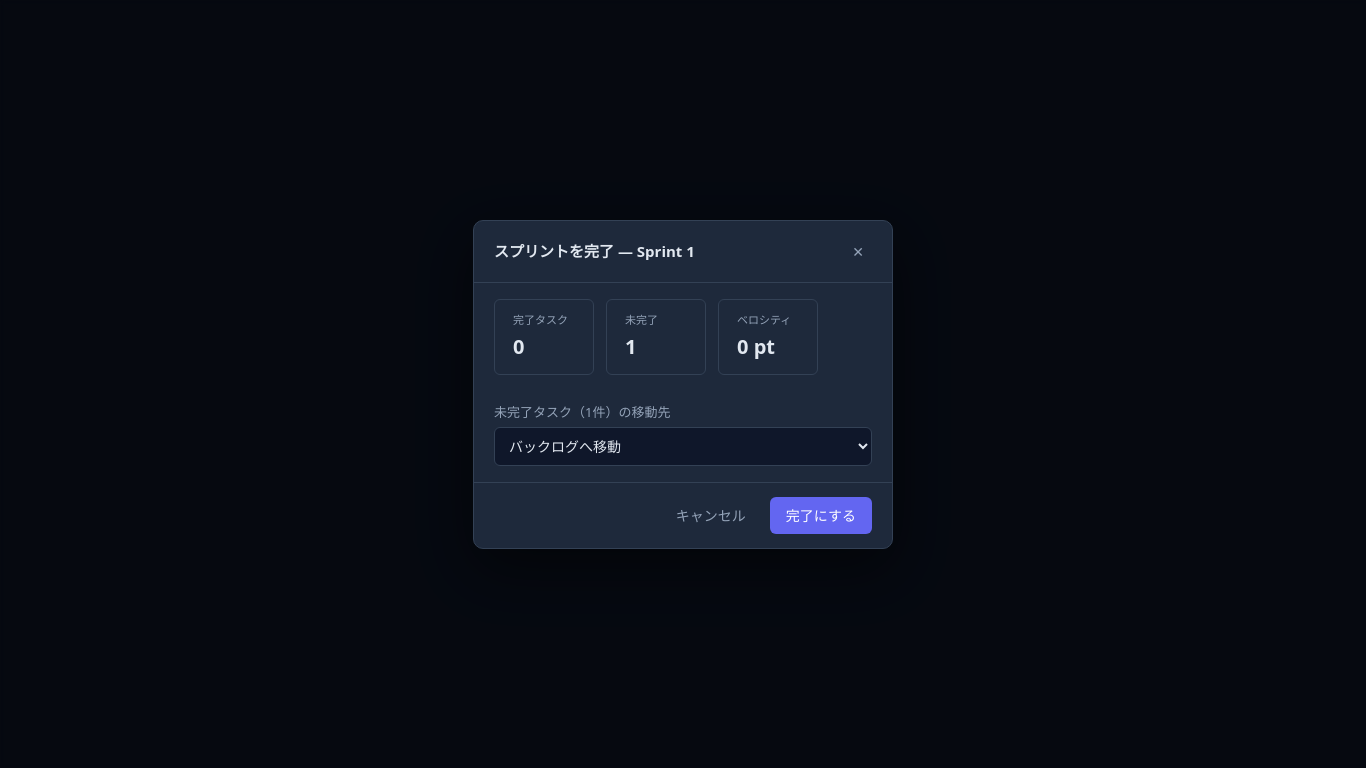
it: CompleteSprintModal - 未完了タスクの移動先 (R-011 / AT-048) › 「次のスプリントへ移動」で対象を選ぶと完了ボタンが活性化
Select "次のスプリントへ移動" in the dropdown at (683, 446), box left=494, top=426, right=872, bottom=466
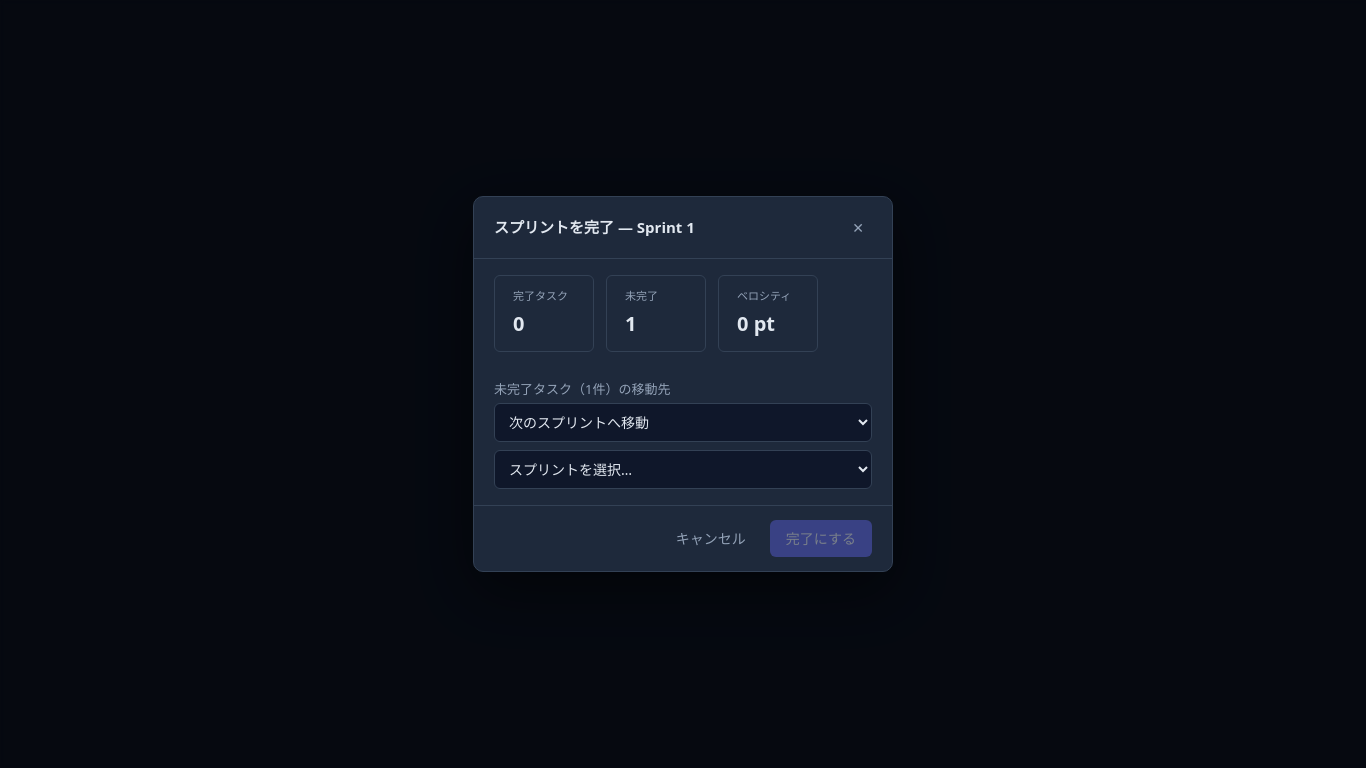
Select "Sprint 2" in the 2nd dropdown at (683, 470), box left=494, top=450, right=872, bottom=489
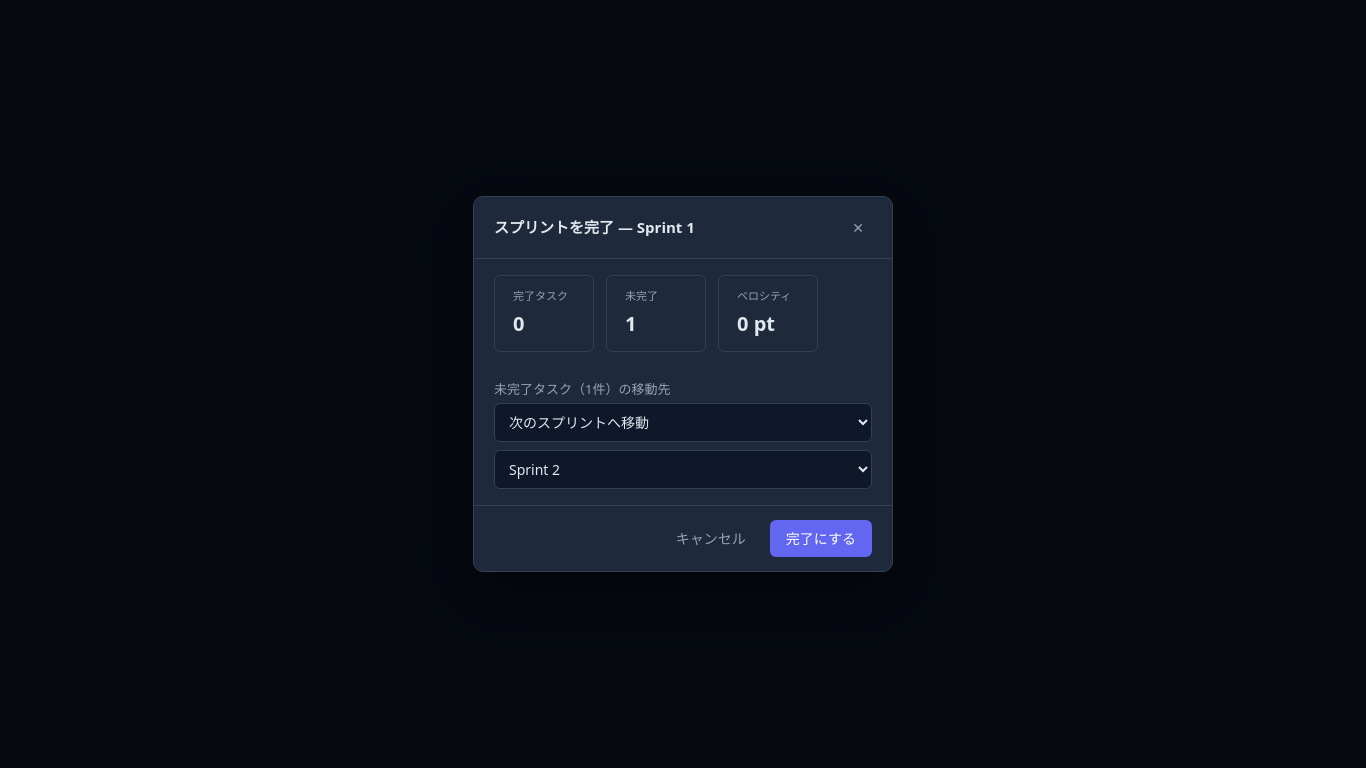
Expected: the button "完了にする" is enabled, left=770, top=520, right=872, bottom=557
